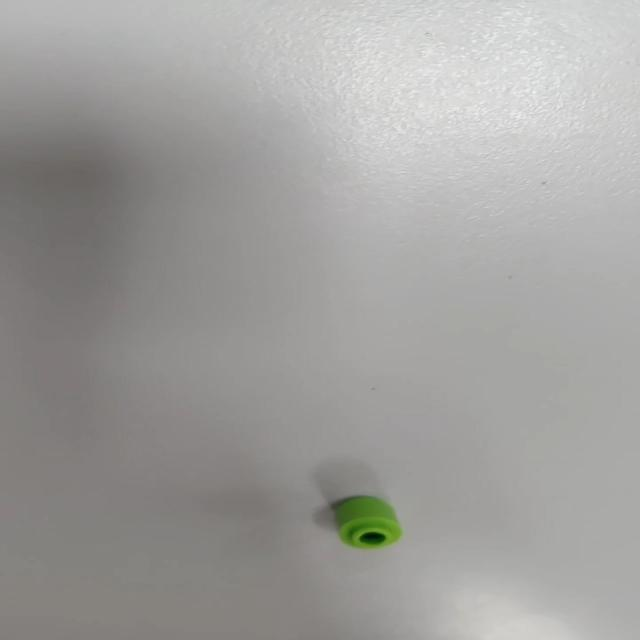S1x1x1: (318, 463, 406, 551)
